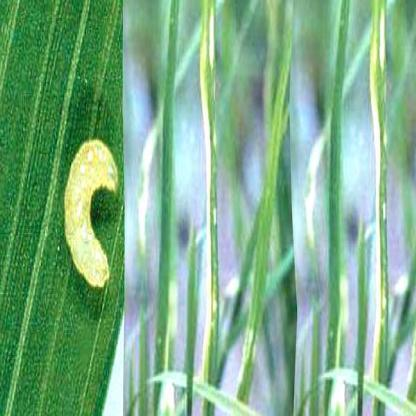whorl-maggot: (61, 136, 120, 301)
